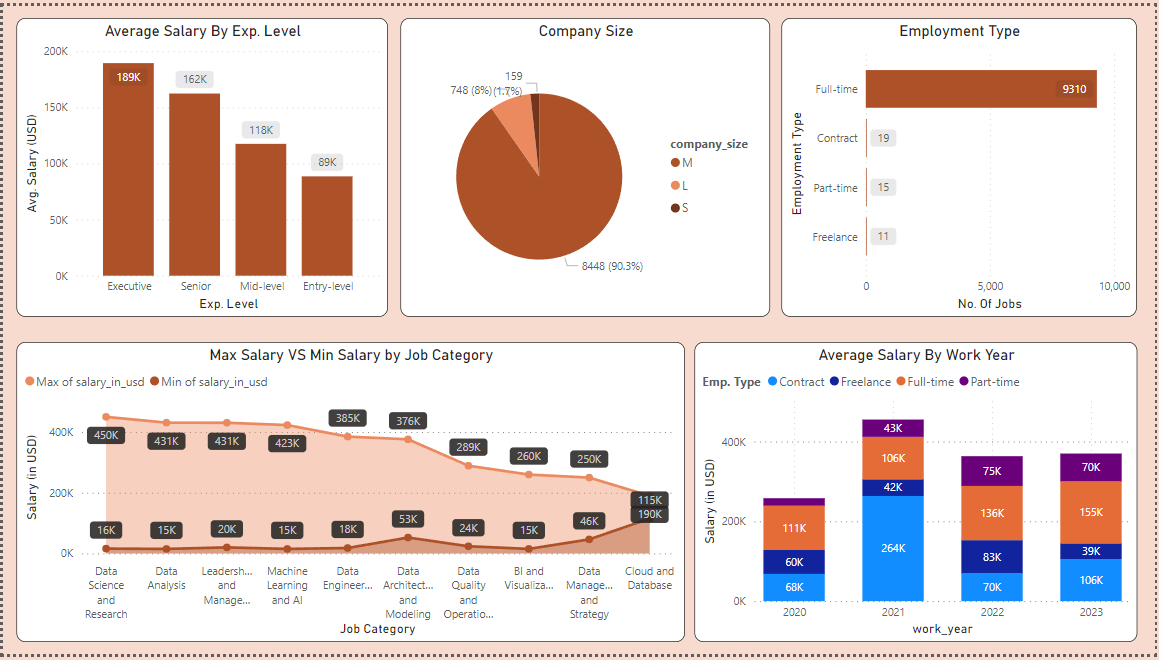

Layout of this report page (visuals, bound fields, positions):
{"tool":"powerbi","page":{"name":"Page 2","canvas":[1280,720],"ordinal":0},"visuals":[{"type":"columnChart","title":"Average Salary By Exp. Level","fields":{"Category":["jobs_in_data.experience_level"],"Y":["Avg(jobs_in_data.salary_in_usd)"]},"box":[14.6,12.9,412.6,331.7],"z":0},{"type":"pieChart","title":"Company Size","fields":{"Category":["jobs_in_data.company_size"],"Y":["CountNonNull(jobs_in_data.company_location)"]},"box":[441.7,12.9,411,331.7],"z":1000},{"type":"barChart","title":"Employment Type","fields":{"Category":["jobs_in_data.employment_type"],"Y":["CountNonNull(jobs_in_data.job_title)"]},"box":[865.6,12.9,394.8,331.7],"z":2000},{"type":"areaChart","title":"Max Salary VS Min Salary by Job Category","fields":{"Category":["jobs_in_data.job_category"],"Y":["Max(jobs_in_data.salary_in_usd)","Min(jobs_in_data.salary_in_usd)"]},"box":[14.6,373.8,742.7,333.3],"z":3000},{"type":"columnChart","title":"Average Salary By Work Year","fields":{"Y":["Avg(jobs_in_data.salary_in_usd)"],"Category":["jobs_in_data.work_year"],"Series":["jobs_in_data.employment_type"]},"box":[768.5,373.8,491.9,333.3],"z":4000}]}

Visuals, with their boxes in screenshot pixels (x1, y1, x2, y2), scaled from the page's 1280x720 canvas onto the 1159x660 screenshot:
"Average Salary By Exp. Level" columnChart: x1=13 y1=12 x2=387 y2=316
"Company Size" pieChart: x1=400 y1=12 x2=772 y2=316
"Employment Type" barChart: x1=784 y1=12 x2=1141 y2=316
"Max Salary VS Min Salary by Job Category" areaChart: x1=13 y1=343 x2=686 y2=648
"Average Salary By Work Year" columnChart: x1=696 y1=343 x2=1141 y2=648
